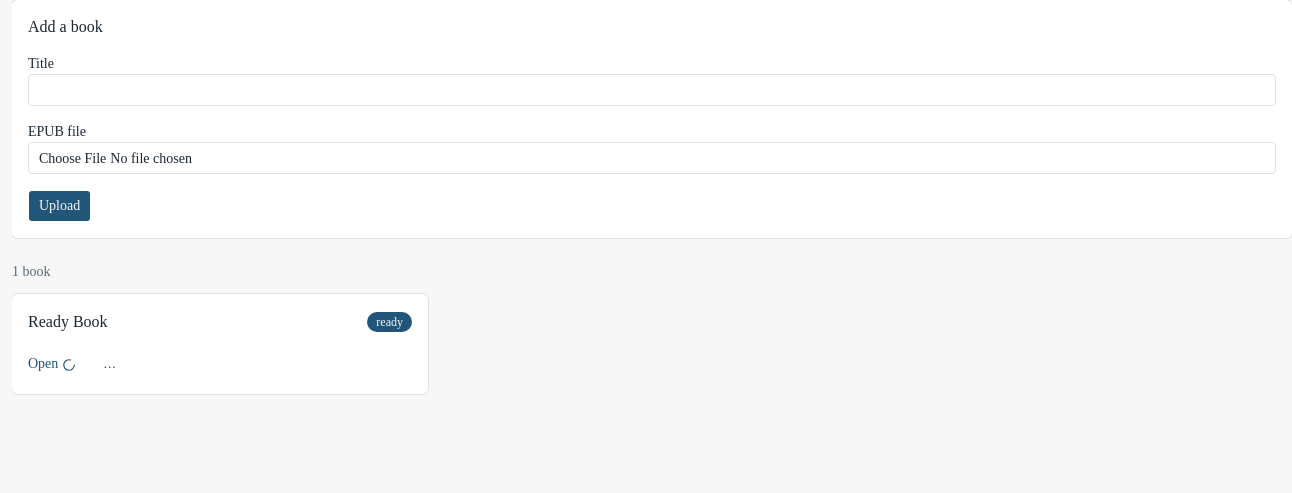
Test case: LibraryScreen pending feedback (ANSW-10) › gives each entry's reading action a pending indicator while it is navigating
Expected: the element with test id "nav-pending" is shown, [62,358,76,372]
Click the button named "More actions" at (110, 364), box [92,350,127,378]
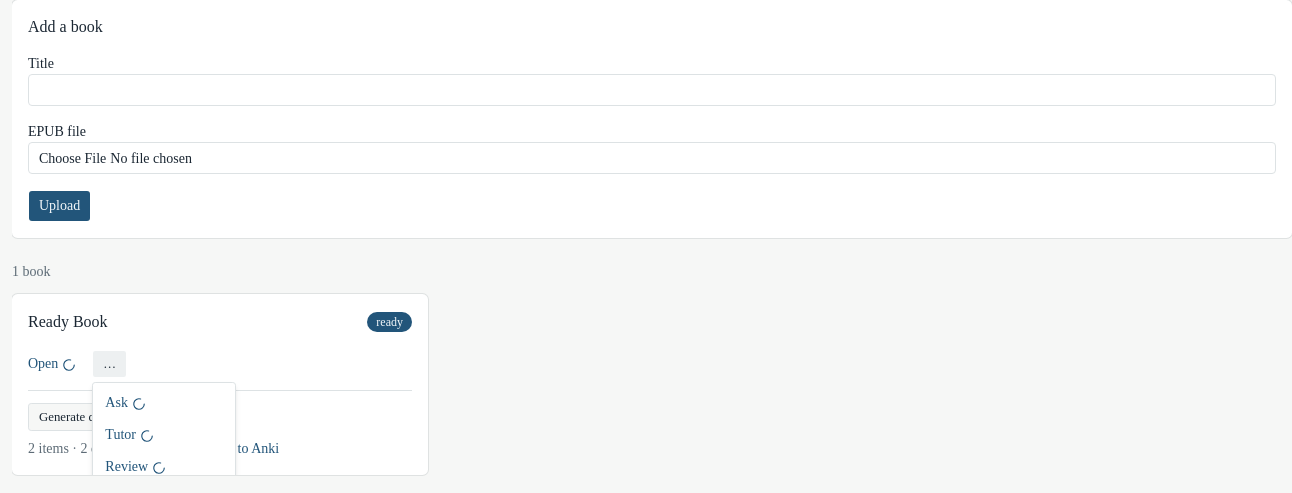
Result: the element with test id "nav-pending" next to "Ask" is shown at [132,397,146,411]
Result: the element with test id "nav-pending" next to "Tutor" is shown at [140,429,154,443]
Result: the 5th element with test id "nav-pending" is shown at [152,461,166,475]
